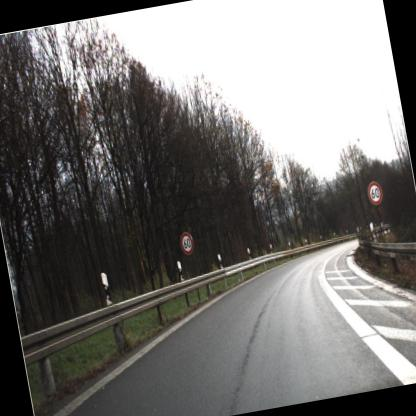prohibitory: (175, 228, 197, 260), (363, 180, 385, 209)
